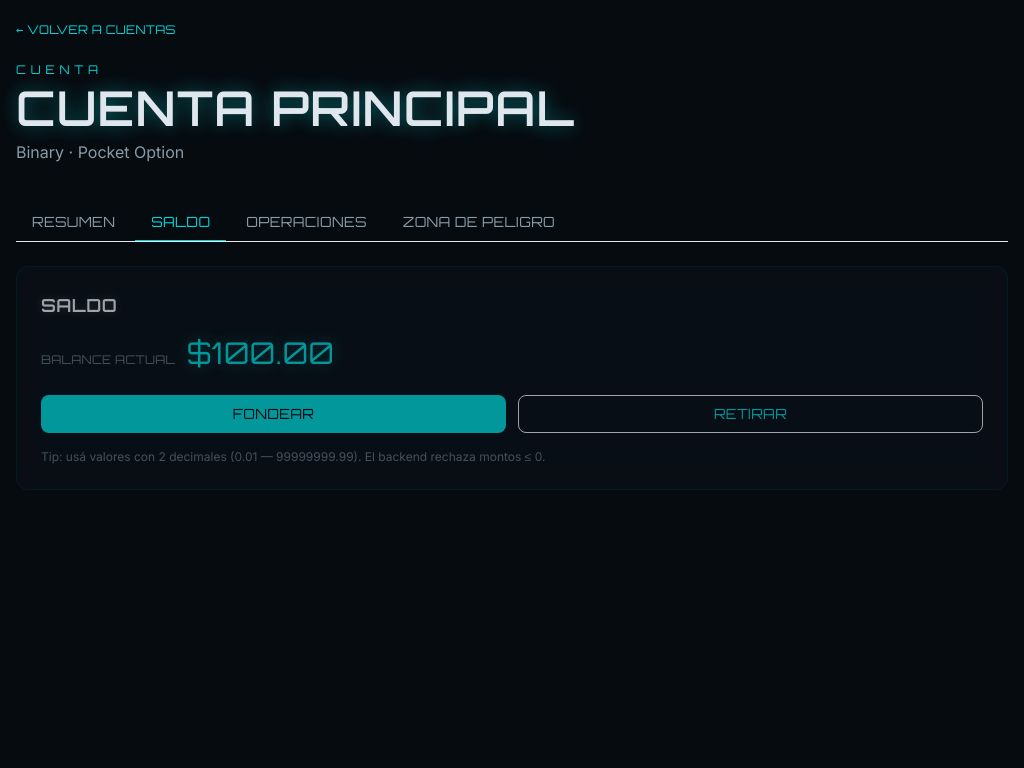
Test: CuentasDetailPage › fund flow opens modal, submits amount and updates balance
Click the button "Fondear". click: x=274, y=414
box: [41, 395, 506, 433]
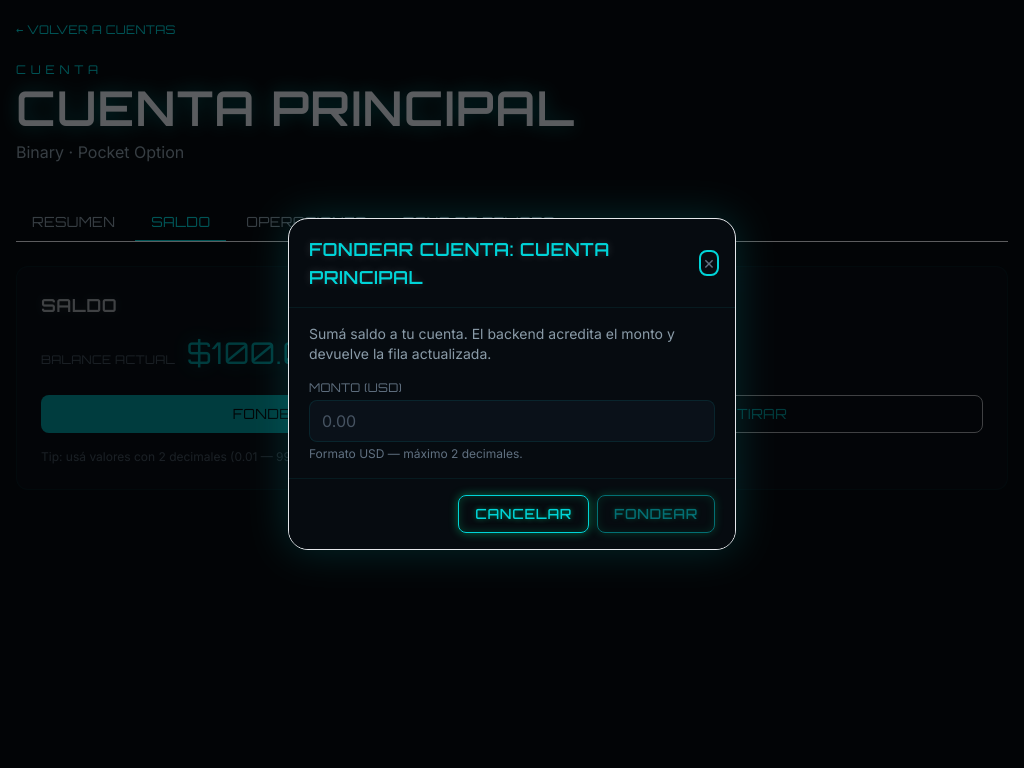
Now the dialog "Fondear cuenta: Cuenta principal" is shown
Type "50" into the number field labelled "Monto (USD) Formato USD — máximo 2 decimales.". click: x=512, y=421
box: [309, 400, 715, 442]
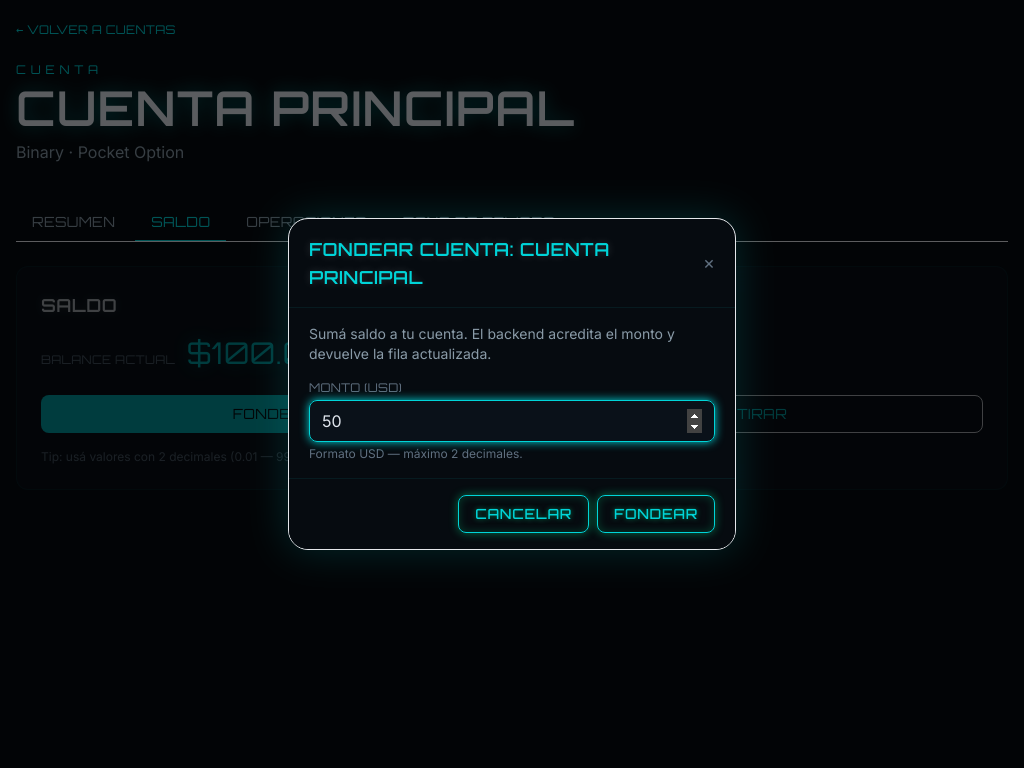
Now the submit button is shown
Click the submit button. click: x=656, y=514
box: [597, 495, 715, 533]
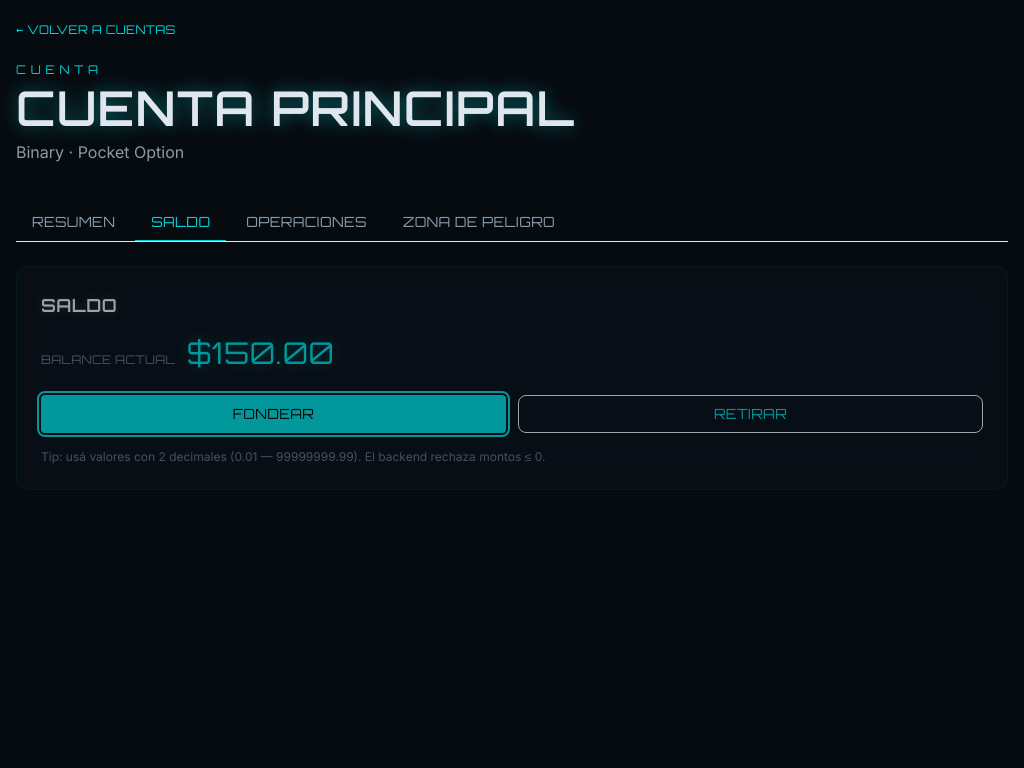
Now the dialog is gone
